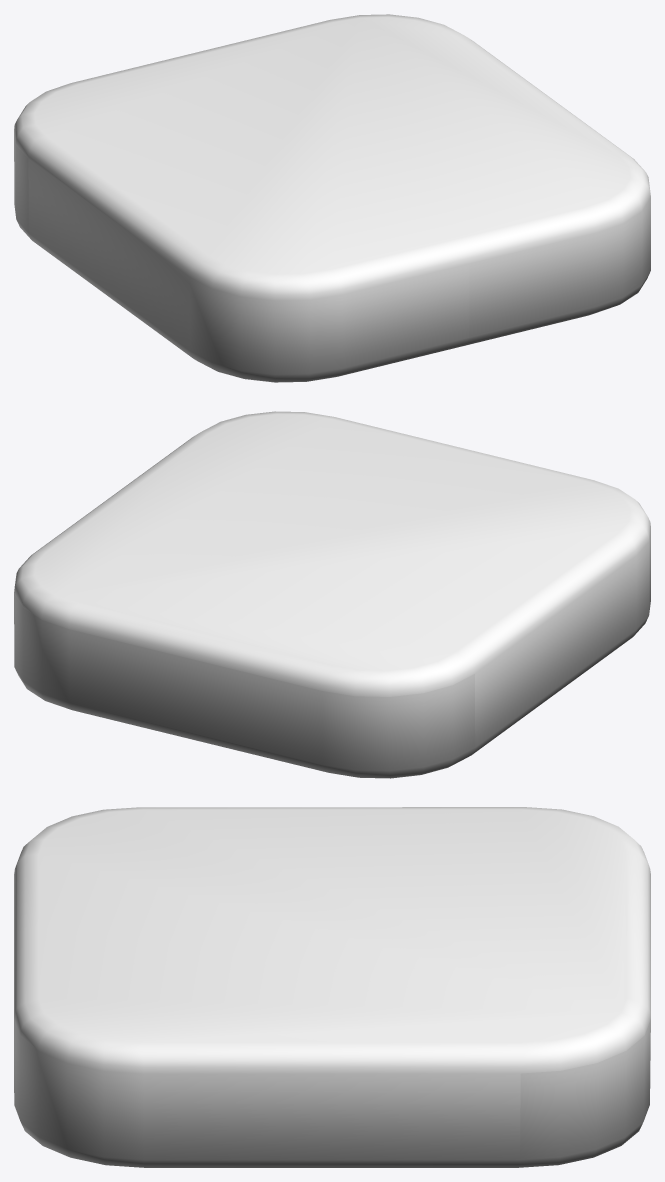
Rendered from arrow_block_Jan2026_2.fbx.
3 views of the same model, one above another, from view 1: azimuth 30°, elevation 25°; view 2: azimuth 150°, elevation 25°; view 3: azimuth 270°, elevation 25° (orthographic). The views are drawn at different scales.
Parts seen in each view (by area): view 1: ArrowTile_Jan2; view 2: ArrowTile_Jan2; view 3: ArrowTile_Jan2.
Boxes of the visible parts, x1,y1,x2,y2 form: ArrowTile_Jan2: [14, 14, 650, 382]; ArrowTile_Jan2: [14, 411, 650, 778]; ArrowTile_Jan2: [14, 807, 650, 1167].
Size of the model in its own units: 200 by 45.29 by 212.
